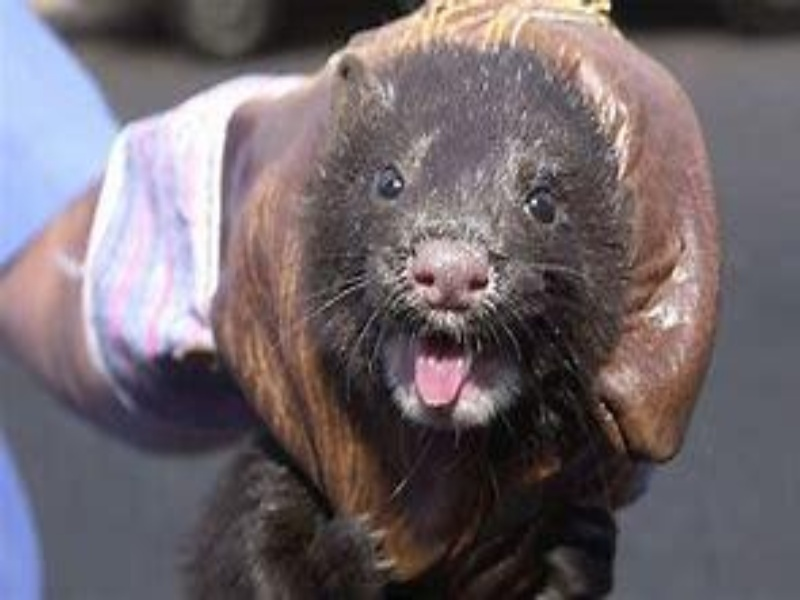minkish: (173, 37, 631, 599)
